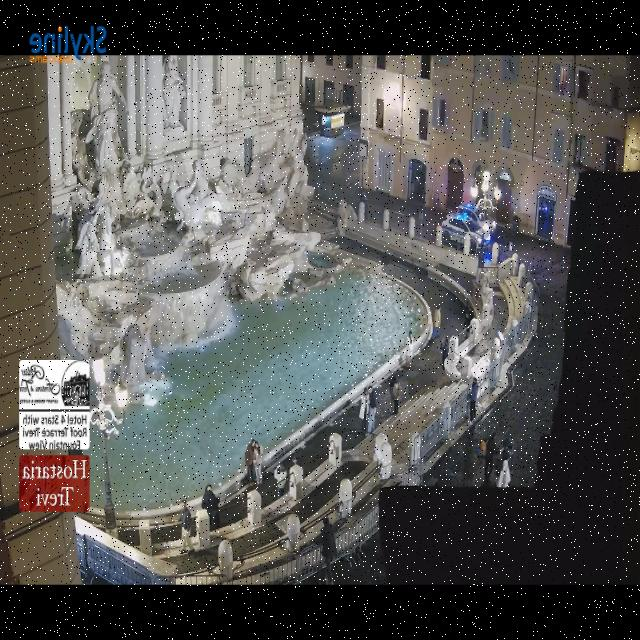person: (320, 517, 335, 584), (201, 484, 218, 531), (180, 500, 193, 554), (484, 433, 496, 479), (244, 439, 254, 483), (253, 442, 263, 484), (274, 465, 286, 498), (469, 378, 478, 422), (367, 386, 375, 434), (404, 331, 414, 368), (359, 388, 367, 432), (497, 460, 509, 488), (502, 437, 511, 471), (391, 379, 399, 414), (440, 338, 448, 371), (432, 306, 440, 338), (464, 306, 472, 338), (360, 192, 367, 219), (388, 375, 395, 401), (476, 439, 485, 459)
